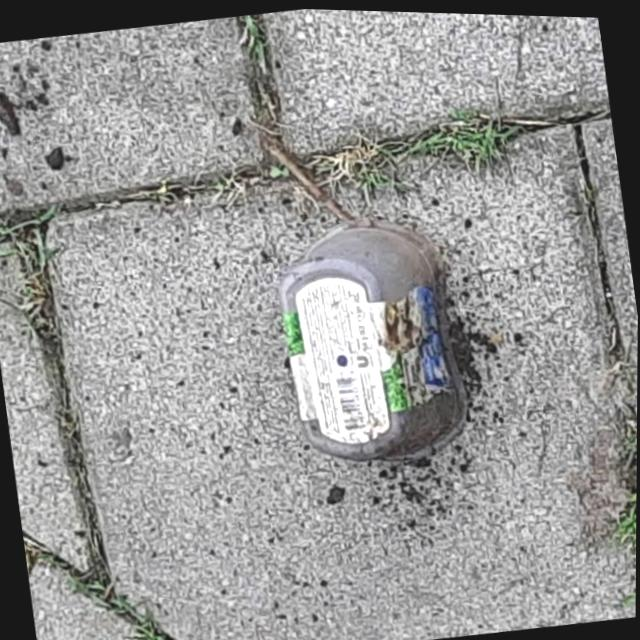Paper: (265, 199, 480, 477)
